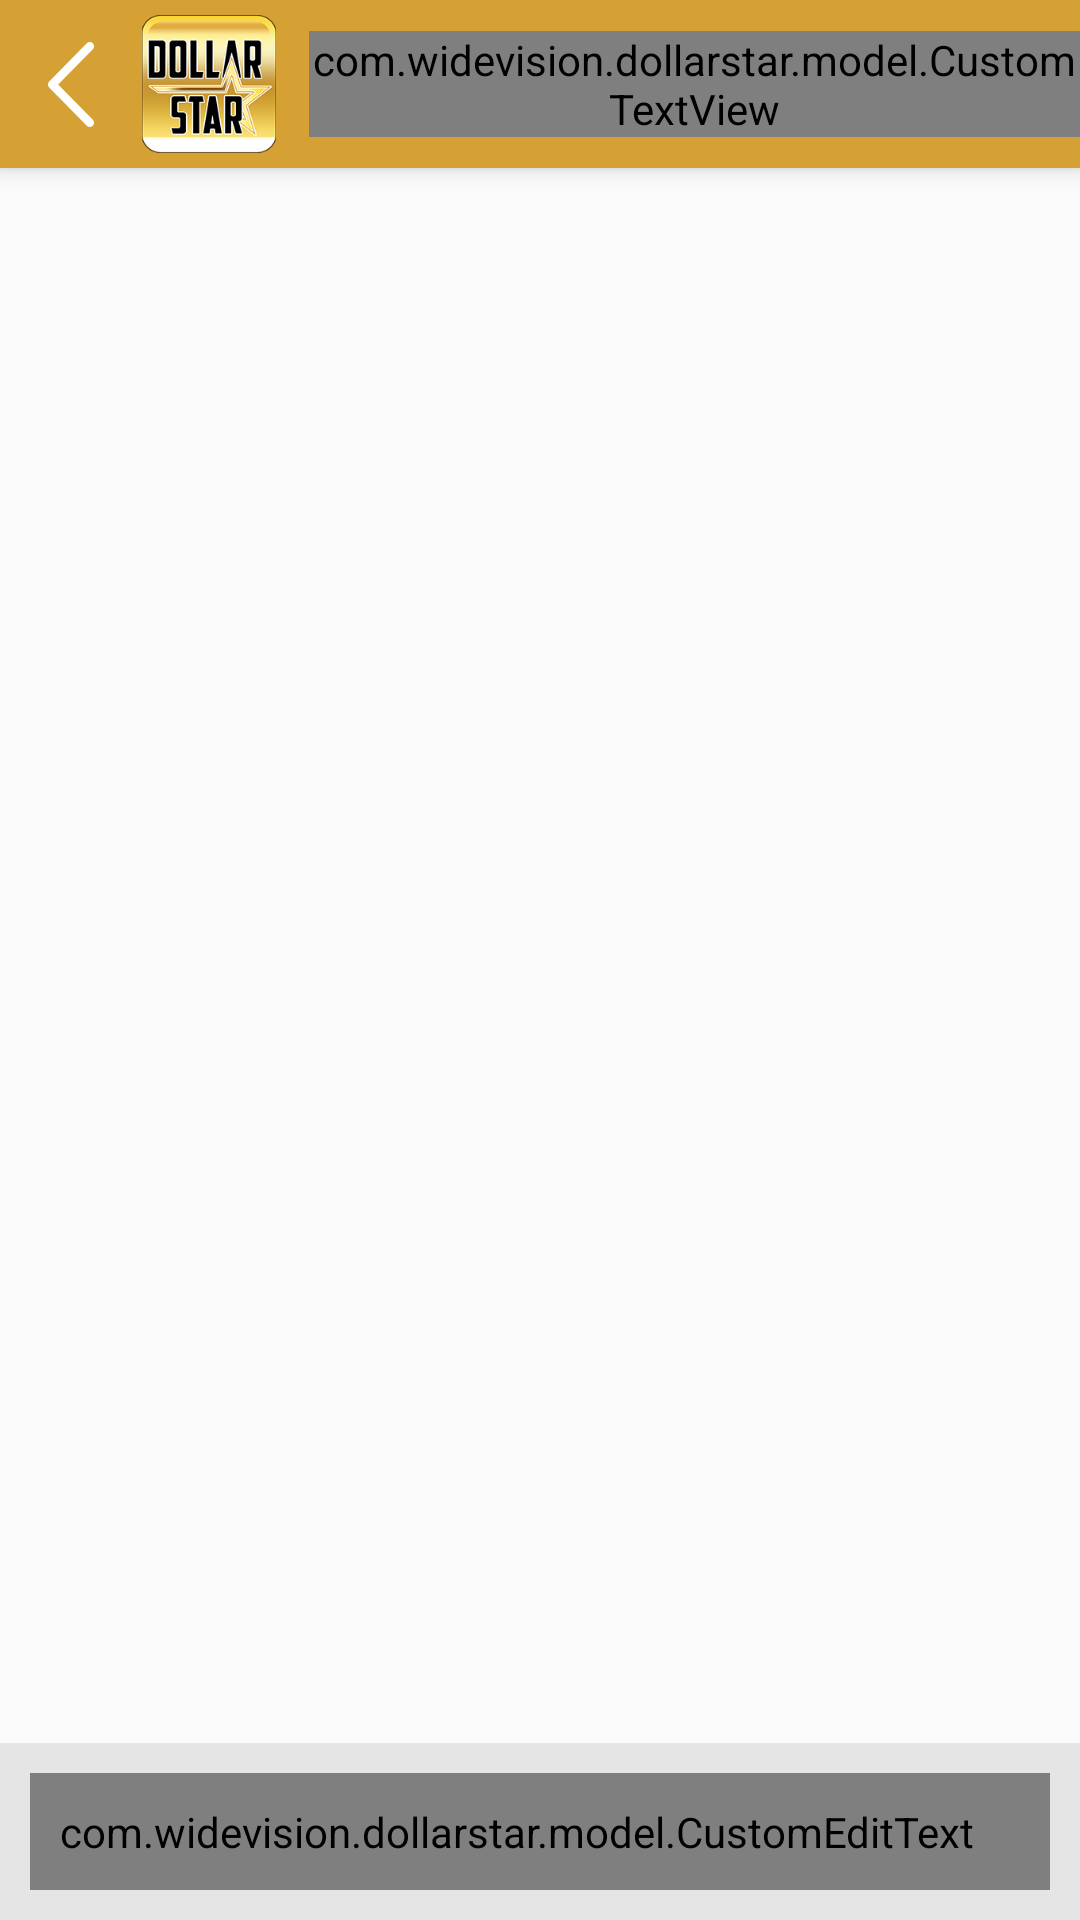

Icon bounding boxes for this 1080w x 1920h phone screenshot, format (x1, y1, x2, y2):
backicon: (48, 42, 94, 127)
